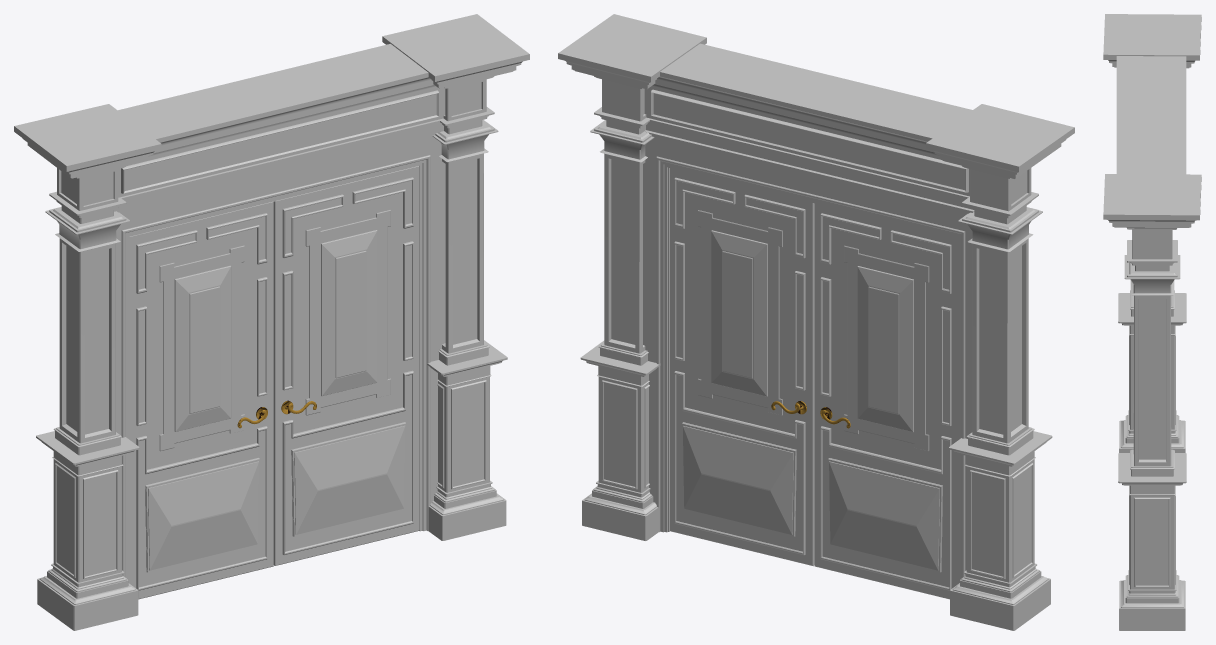
Rendered from wooden_doors.obj.
3 views of the same model, side by side, from view 1: azimuth 30°, elevation 25°; view 2: azimuth 150°, elevation 25°; view 3: azimuth 270°, elevation 25° (orthographic). The views are drawn at different scales.
Parts seen in each view (by area): view 1: main_room_door_frame, hall_doors; view 2: main_room_door_frame, hall_doors; view 3: main_room_door_frame.
Part boxes in pixels (left/top/right/bottom): main_room_door_frame: left=14, top=14, right=529, bottom=630; hall_doors: left=129, top=166, right=419, bottom=599; main_room_door_frame: left=558, top=14, right=1074, bottom=630; hall_doors: left=670, top=168, right=957, bottom=599; main_room_door_frame: left=1103, top=14, right=1201, bottom=630.
Bounding box in the file's own units: 312 × 305 × 64.22.
